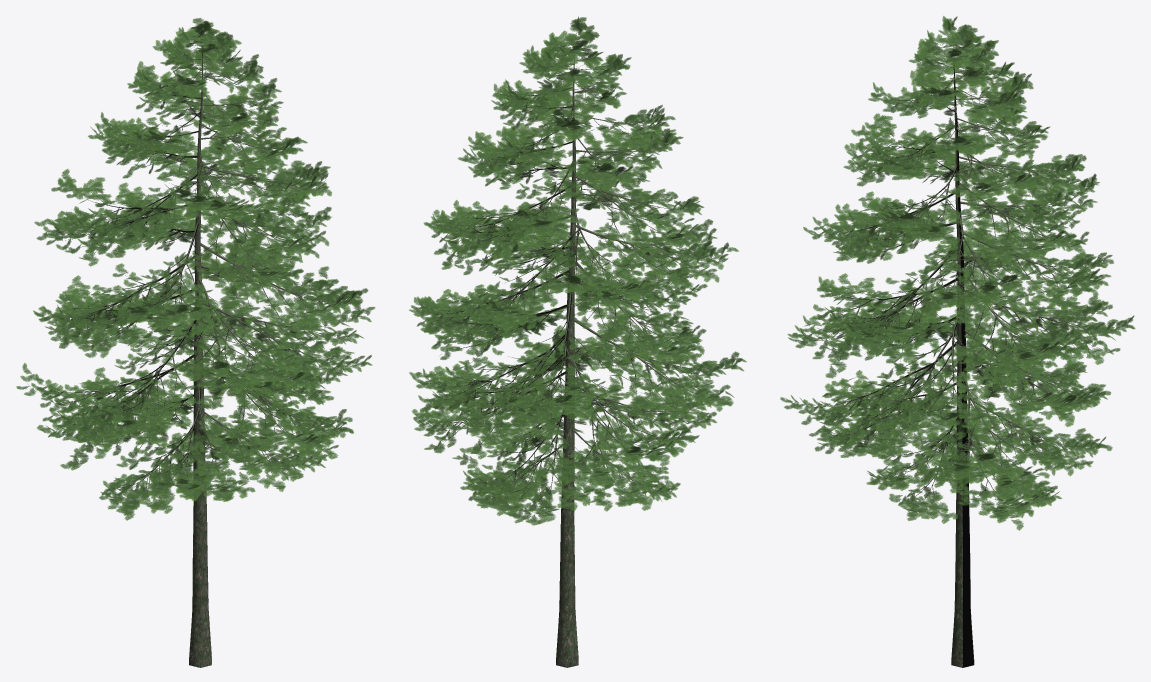
File: bk_douglas_fir_summer_lod0.glb
3 views of the same model, side by side, from view 1: azimuth 30°, elevation 25°; view 2: azimuth 150°, elevation 25°; view 3: azimuth 270°, elevation 25° (orthographic).
Visible parts, largest first — view 1: foliage, branches; view 2: foliage, branches; view 3: foliage, branches.
Boxes of the visible parts, <box> form: foliage: <box>16,18,375,520</box>; branches: <box>35,34,353,667</box>; foliage: <box>409,16,746,525</box>; branches: <box>429,28,725,667</box>; foliage: <box>780,16,1135,530</box>; branches: <box>802,30,1116,667</box>.
Bounding box in the file's own units: 13.05 × 25.44 × 12.85.
Materials: 2 (2 with a texture image).
